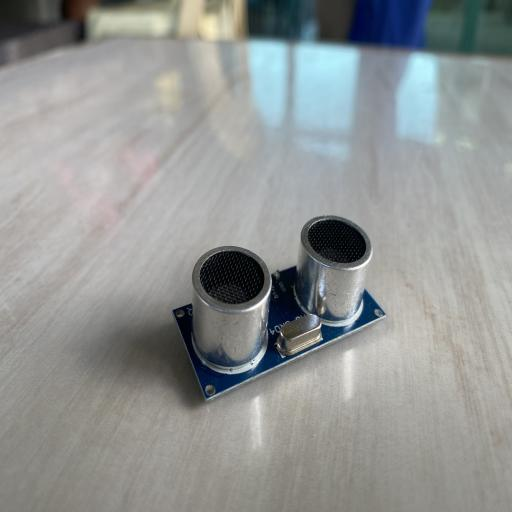Ultrasonic Sensor: (172, 214, 386, 404)
